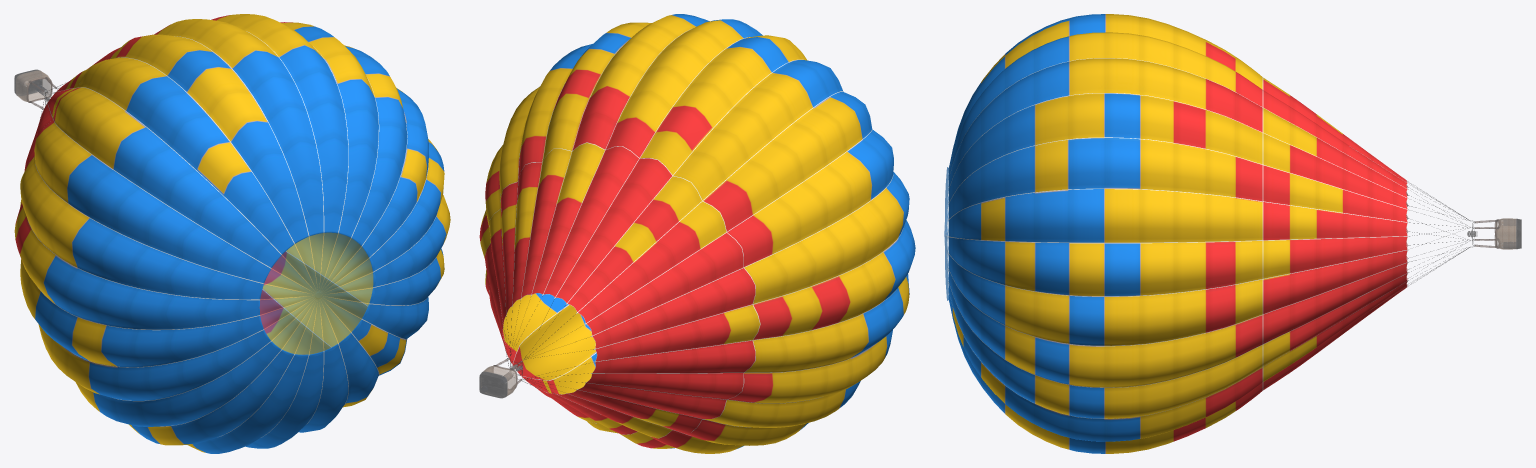
The model's file is ballon.glb.
The picture shows the model from 3 angles, left to right: view 1: azimuth 30°, elevation 25°; view 2: azimuth 150°, elevation 25°; view 3: azimuth 270°, elevation 25°; orthographic projection.
Visible parts, largest first — view 1: 11809_Hot_air_balloon_l2; view 2: 11809_Hot_air_balloon_l2; view 3: 11809_Hot_air_balloon_l2.
Part boxes in pixels (x1,y1,x2,y2): 11809_Hot_air_balloon_l2: (14,14,450,453); 11809_Hot_air_balloon_l2: (479,14,915,453); 11809_Hot_air_balloon_l2: (944,14,1521,453).
Bounding box in the file's own units: 2564 × 2564 × 3351.
Materials: 6 (6 with a texture image).
